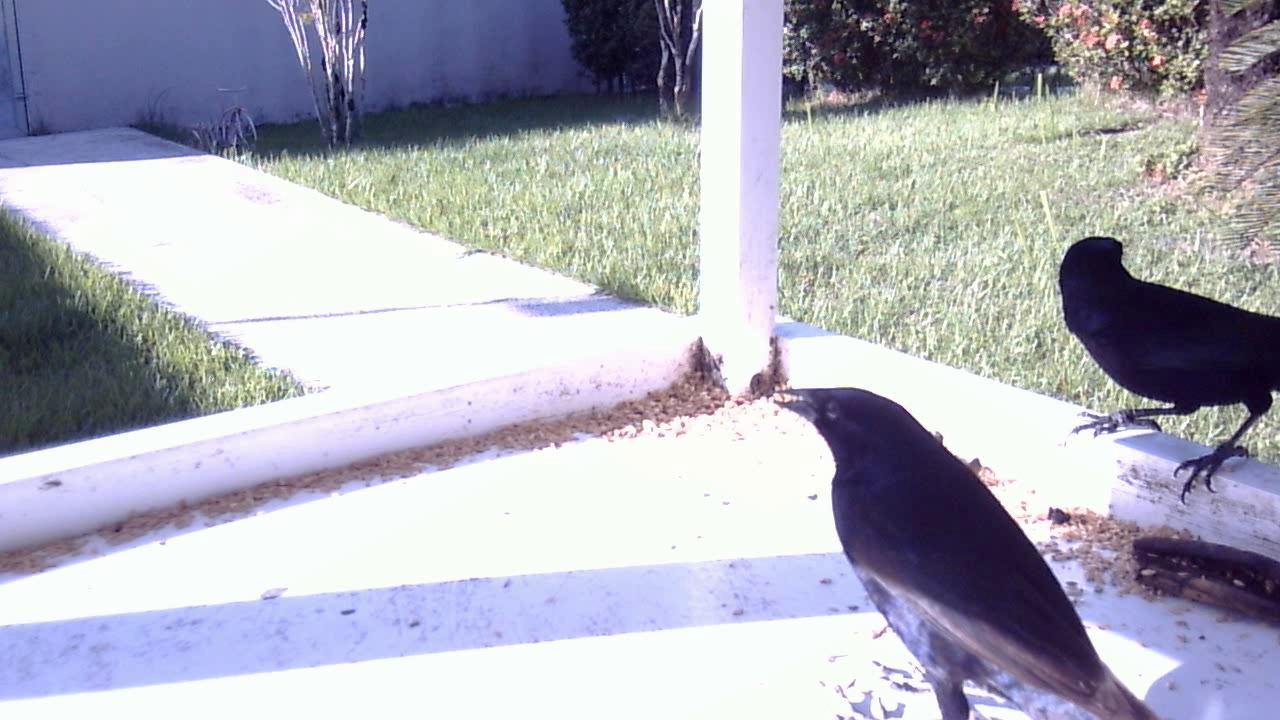chupim: (759, 374, 1158, 720), (1037, 226, 1275, 516)
